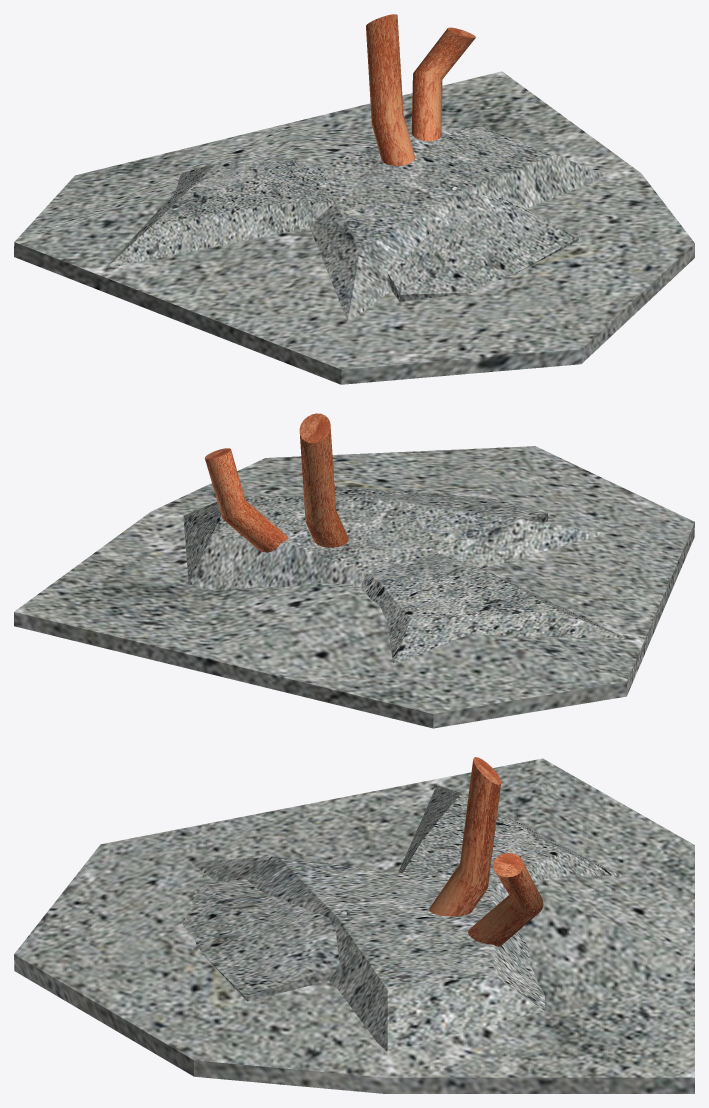
The model's file is Rubble_4.fbx.
3 views of the same model, one above another, from view 1: azimuth 30°, elevation 25°; view 2: azimuth 150°, elevation 25°; view 3: azimuth 270°, elevation 25° (orthographic). The views are drawn at different scales.
Visible parts, largest first — view 1: Rubble_2; view 2: Rubble_2; view 3: Rubble_2.
Part boxes in pixels (x1,y1,x2,y2): Rubble_2: (14, 14, 694, 384); Rubble_2: (14, 413, 694, 728); Rubble_2: (14, 757, 694, 1093).
Size of the model in its own units: 130 by 43.53 by 123.
